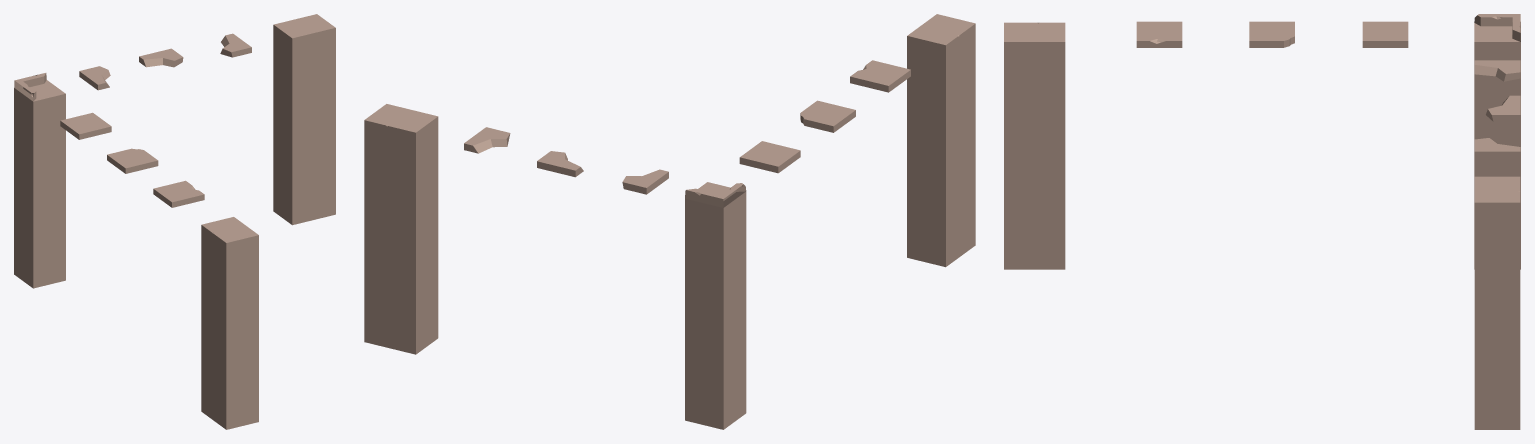
Rendered from Nivel2.fbx.
The picture shows the model from 3 angles, left to right: view 1: azimuth 30°, elevation 25°; view 2: azimuth 150°, elevation 25°; view 3: azimuth 270°, elevation 25°; orthographic projection. The views are drawn at different scales.
Parts seen in each view (by area): view 1: Plataforma-M .003, Plataforma-M .001, Plataforma-M .002, Cubo.003, Cubo.002, Cubo.004, Cubo.006, Cubo.007, Cubo.005; view 2: Plataforma-M .003, Plataforma-M .001, Plataforma-M .002, Cubo.003, Cubo.002, Cubo.004, Cubo.007, Cubo.006, Cubo.005; view 3: Plataforma-M .001, Plataforma-M .003, Plataforma-M .002, Cubo.002, Cubo.003, Cubo.004, Cubo.005, Cubo.007, Cubo.006.
Part boxes in pixels (x1=…): Plataforma-M .003: x1=273, y1=14, x2=335, y2=225; Plataforma-M .001: x1=201, y1=217, x2=258, y2=429; Plataforma-M .002: x1=14, y1=73, x2=65, y2=288; Cubo.003: x1=60, y1=112, x2=111, y2=139; Cubo.002: x1=153, y1=180, x2=204, y2=207; Cubo.004: x1=107, y1=148, x2=158, y2=173; Cubo.006: x1=139, y1=48, x2=183, y2=67; Cubo.007: x1=220, y1=33, x2=251, y2=57; Cubo.005: x1=79, y1=66, x2=110, y2=90; Plataforma-M .003: x1=364, y1=104, x2=438, y2=354; Plataforma-M .001: x1=907, y1=14, x2=975, y2=267; Plataforma-M .002: x1=685, y1=182, x2=746, y2=429; Cubo.003: x1=739, y1=141, x2=800, y2=173; Cubo.002: x1=850, y1=60, x2=910, y2=92; Cubo.004: x1=800, y1=100, x2=855, y2=132; Cubo.007: x1=464, y1=127, x2=510, y2=153; Cubo.006: x1=537, y1=151, x2=583, y2=177; Cubo.005: x1=622, y1=169, x2=668, y2=194; Plataforma-M .001: x1=1004, y1=22, x2=1065, y2=269; Plataforma-M .003: x1=1474, y1=176, x2=1520, y2=429; Plataforma-M .002: x1=1474, y1=14, x2=1520, y2=269; Cubo.002: x1=1136, y1=21, x2=1182, y2=47; Cubo.003: x1=1362, y1=21, x2=1408, y2=47; Cubo.004: x1=1249, y1=21, x2=1294, y2=47; Cubo.005: x1=1474, y1=60, x2=1520, y2=81; Cubo.007: x1=1474, y1=138, x2=1520, y2=158; Cubo.006: x1=1486, y1=95, x2=1520, y2=121.
Size of the model in its own units: 11276 by 6913 by 13697.
